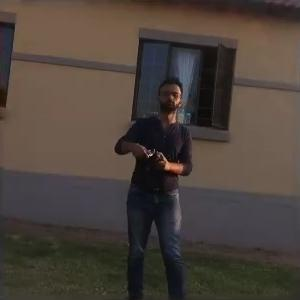follow: (110, 70, 199, 299)
